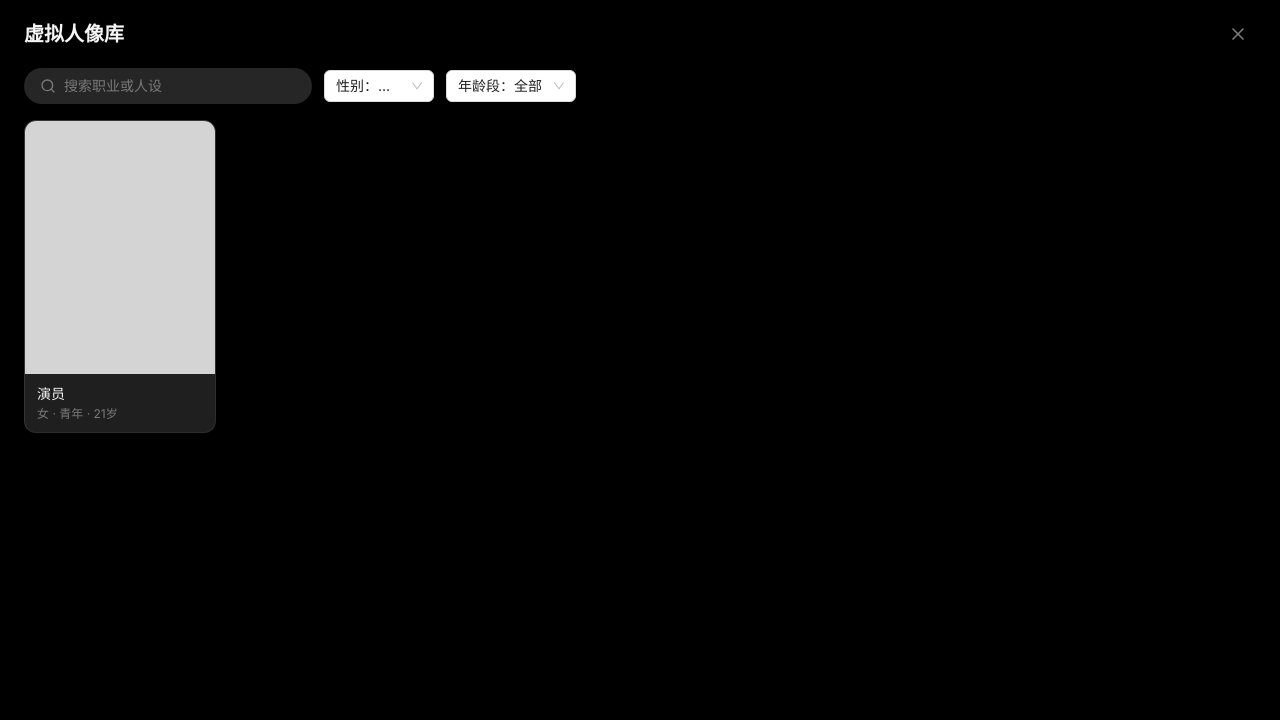
Test: AICharactersModal › 列出角色卡片，点击进详情
Click the button titled "演员" at (120, 277), box [24,120,216,433]
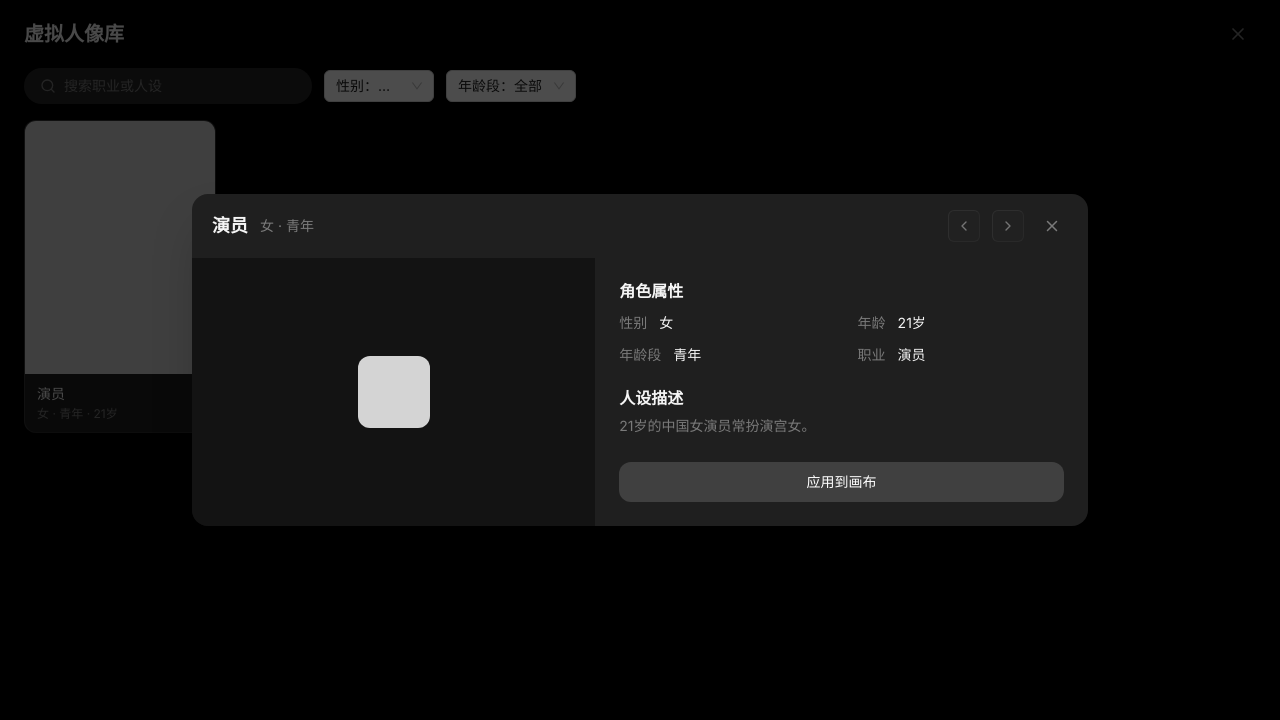
expect the text "角色属性" is shown: met, box [619,281,683,301]
expect the text "21岁的中国女演员常扮演宫女。" is shown: met, box [619,417,815,434]
expect the button "应用到画布" is shown: met, box [619,462,1064,502]
